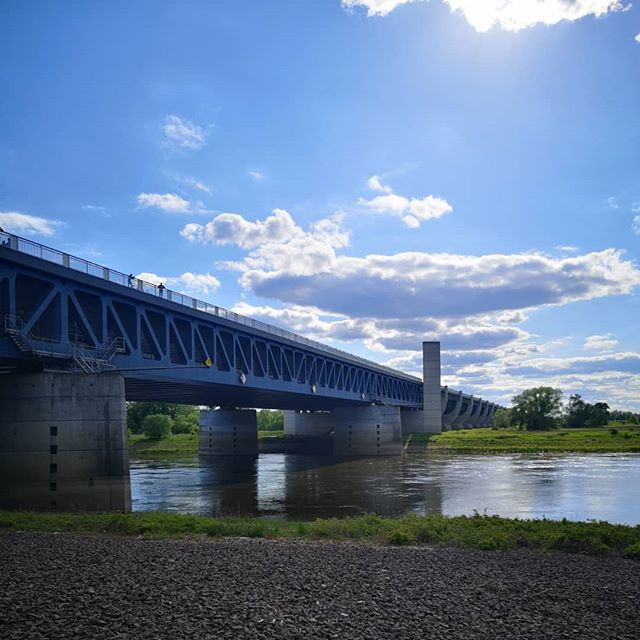bridge: (1, 220, 506, 466)
river: (70, 446, 640, 524)
sky: (32, 1, 640, 347)
